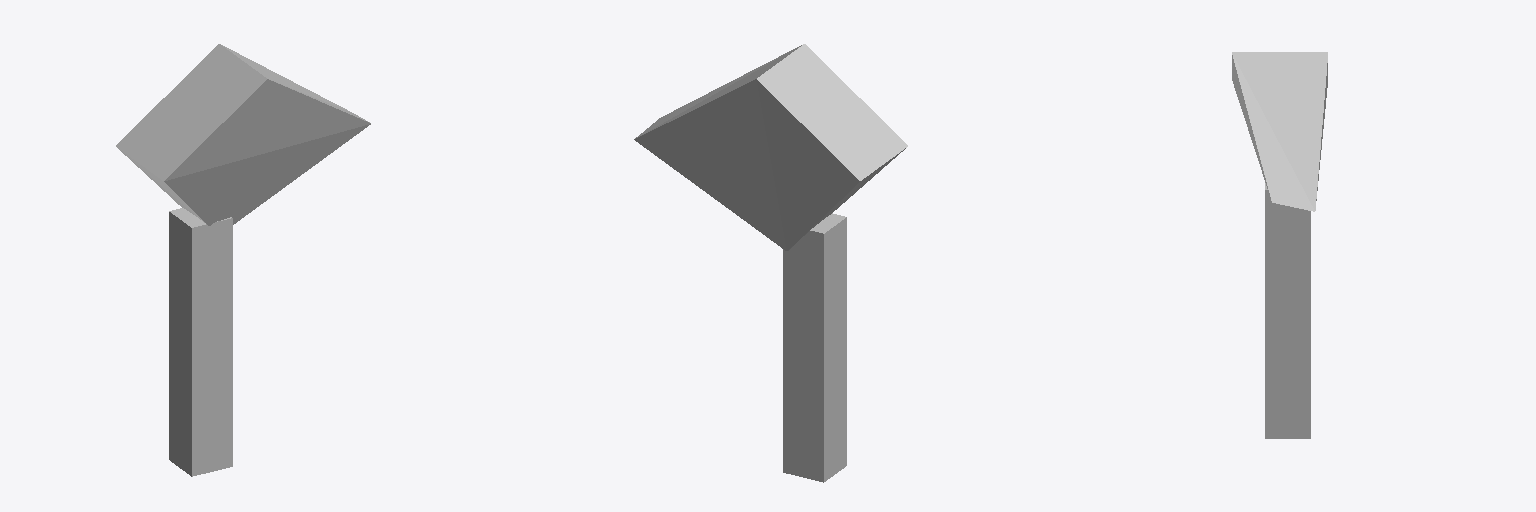
File: flowerTest1Collider.obj
The picture shows the model from 3 angles: view 1: azimuth 30°, elevation 25°; view 2: azimuth 150°, elevation 25°; view 3: azimuth 270°, elevation 25°; orthographic projection.
Visible parts, largest first — view 1: Cube.001_Cube.002, Cube_Cube.001; view 2: Cube.001_Cube.002, Cube_Cube.001; view 3: Cube.001_Cube.002, Cube_Cube.001.
Part boxes in pixels (x1,y1,x2,y2): Cube.001_Cube.002: (116,44,370,225); Cube_Cube.001: (169,208,232,476); Cube.001_Cube.002: (634,44,907,250); Cube_Cube.001: (783,213,846,482); Cube.001_Cube.002: (1232,52,1327,211); Cube_Cube.001: (1265,183,1310,438).
Bounding box in the file's own units: 3.22 × 5.22 × 1.16.